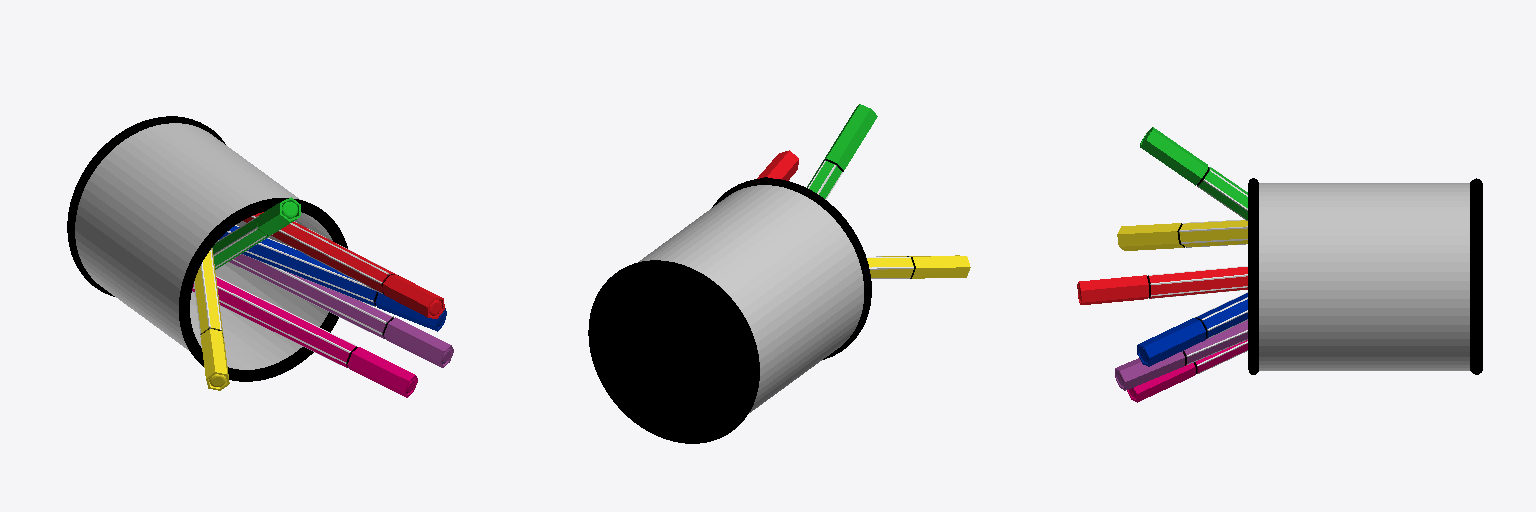
3 renders of one model, left to right at view 1: azimuth 30°, elevation 25°; view 2: azimuth 150°, elevation 25°; view 3: azimuth 270°, elevation 25°, orthographic.
Visible parts, largest first — view 1: HighRes_Chainlink_0, HighRes_Material.001_0, HighRes_Pink_0, HighRes_Purple_0, HighRes_Red_0, HighRes_Blue_0, HighRes_Yellow_0, HighRes_Green_0; view 2: HighRes_Material.001_0, HighRes_Chainlink_0, HighRes_Green_0, HighRes_Yellow_0, HighRes_Red_0; view 3: HighRes_Chainlink_0, HighRes_Material.001_0, HighRes_Red_0, HighRes_Yellow_0, HighRes_Green_0, HighRes_Blue_0, HighRes_Purple_0, HighRes_Pink_0.
Part boxes in pixels (bbox=[...]): HighRes_Chainlink_0: bbox=[75, 123, 332, 369]; HighRes_Material.001_0: bbox=[67, 116, 347, 381]; HighRes_Pink_0: bbox=[192, 276, 417, 397]; HighRes_Purple_0: bbox=[229, 254, 453, 367]; HighRes_Red_0: bbox=[242, 212, 444, 318]; HighRes_Blue_0: bbox=[218, 225, 446, 331]; HighRes_Yellow_0: bbox=[194, 248, 229, 390]; HighRes_Green_0: bbox=[212, 197, 300, 269]; HighRes_Material.001_0: bbox=[588, 178, 871, 443]; HighRes_Chainlink_0: bbox=[639, 185, 863, 412]; HighRes_Green_0: bbox=[807, 104, 877, 199]; HighRes_Yellow_0: bbox=[866, 255, 970, 278]; HighRes_Red_0: bbox=[757, 150, 798, 180]; HighRes_Chainlink_0: bbox=[1259, 183, 1469, 370]; HighRes_Material.001_0: bbox=[1248, 178, 1482, 374]; HighRes_Red_0: bbox=[1077, 266, 1247, 304]; HighRes_Yellow_0: bbox=[1117, 219, 1247, 250]; HighRes_Green_0: bbox=[1140, 127, 1247, 220]; HighRes_Blue_0: bbox=[1137, 292, 1247, 366]; HighRes_Purple_0: bbox=[1115, 320, 1247, 390]; HighRes_Pink_0: bbox=[1127, 340, 1247, 402].
Size of the model in its own units: 0.0309 by 0.0262 by 0.0428.
Materials: 8 (6 with a texture image).